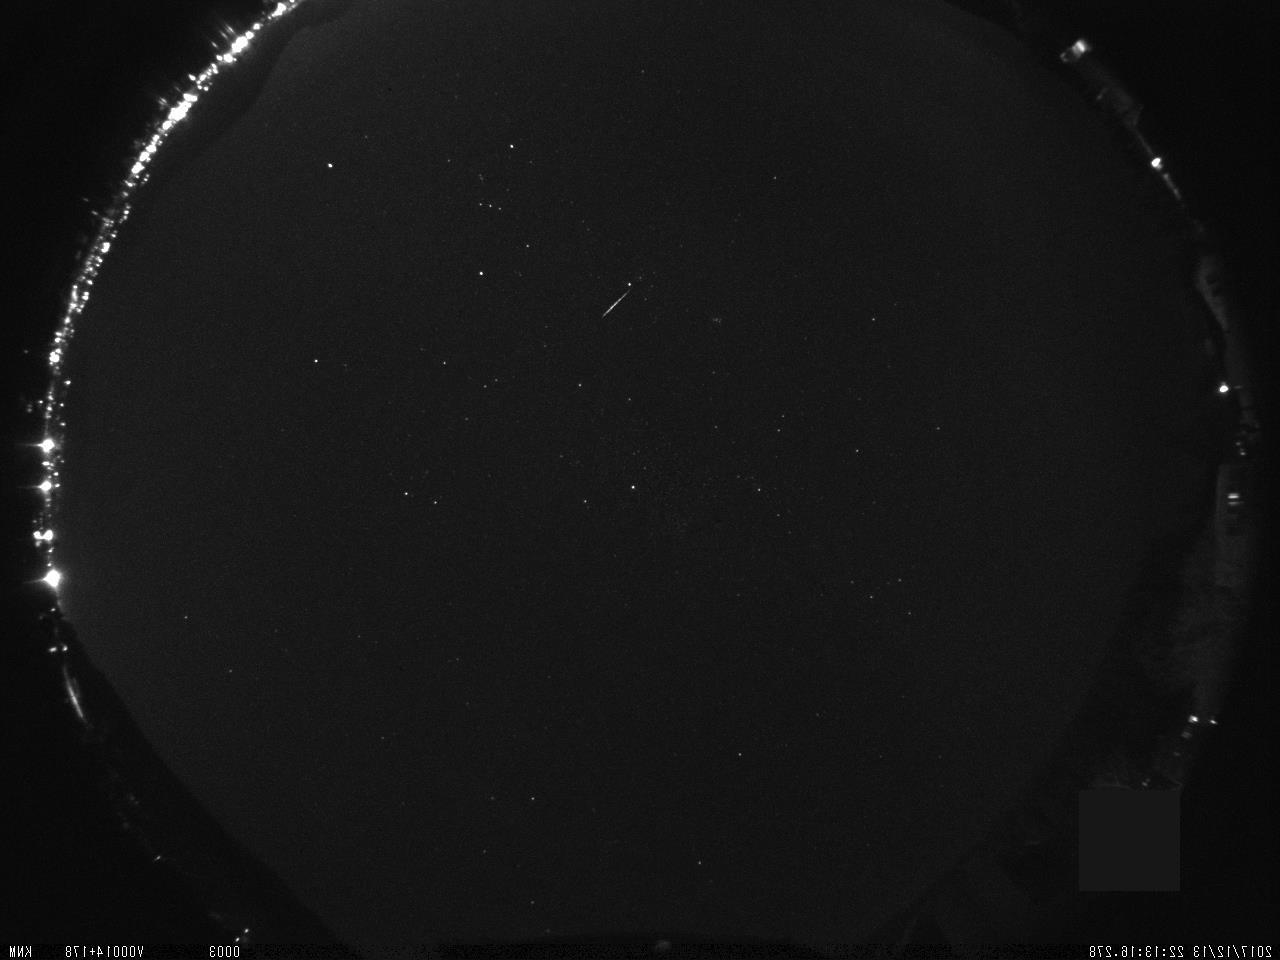meteor: (601, 282, 641, 318)
